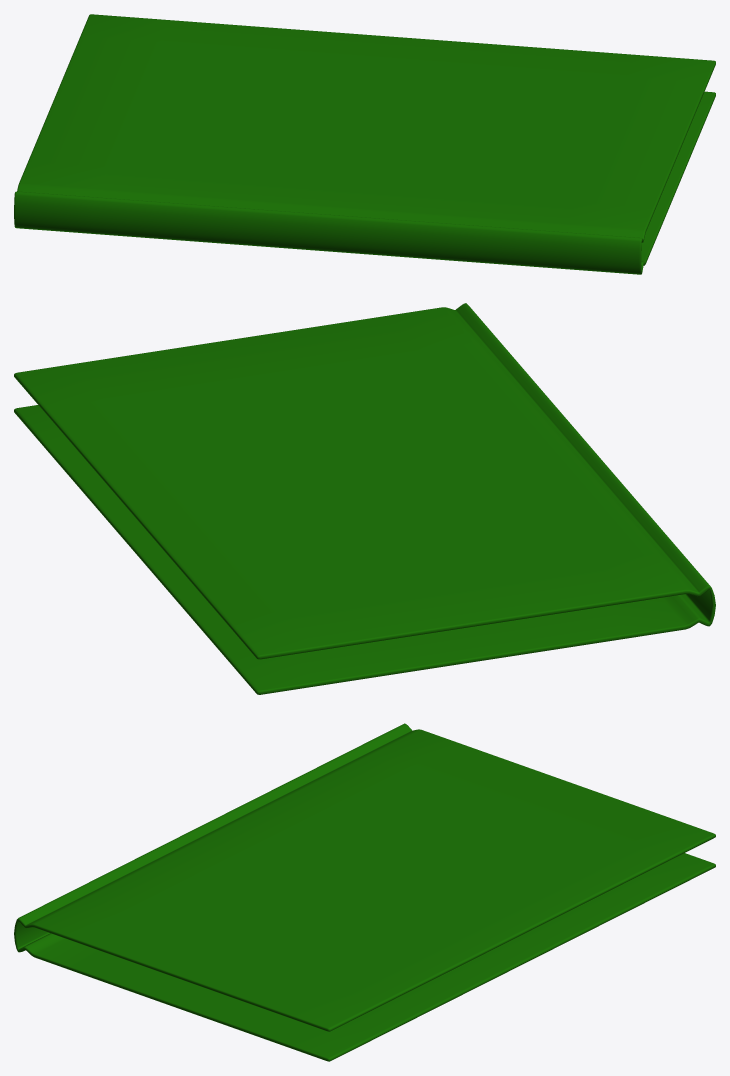
Rendered from book-four-cover.obj.
3 renders of one model, top to bottom at view 1: azimuth 30°, elevation 25°; view 2: azimuth 150°, elevation 25°; view 3: azimuth 270°, elevation 25°, orthographic. The views are drawn at different scales.
Parts seen in each view (by area): view 1: books_and_mugs:Line006; view 2: books_and_mugs:Line006; view 3: books_and_mugs:Line006.
Boxes of the visible parts, x1,y1,x2,y2 form: books_and_mugs:Line006: (14, 14, 715, 274); books_and_mugs:Line006: (14, 303, 715, 694); books_and_mugs:Line006: (14, 723, 715, 1061).
Size of the model in its own units: 0.9665 by 0.0504 by 0.9352.
